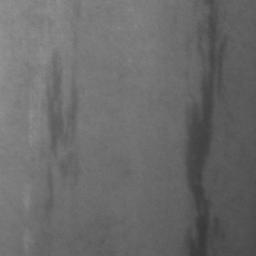Inclusion: (186, 0, 220, 256)
